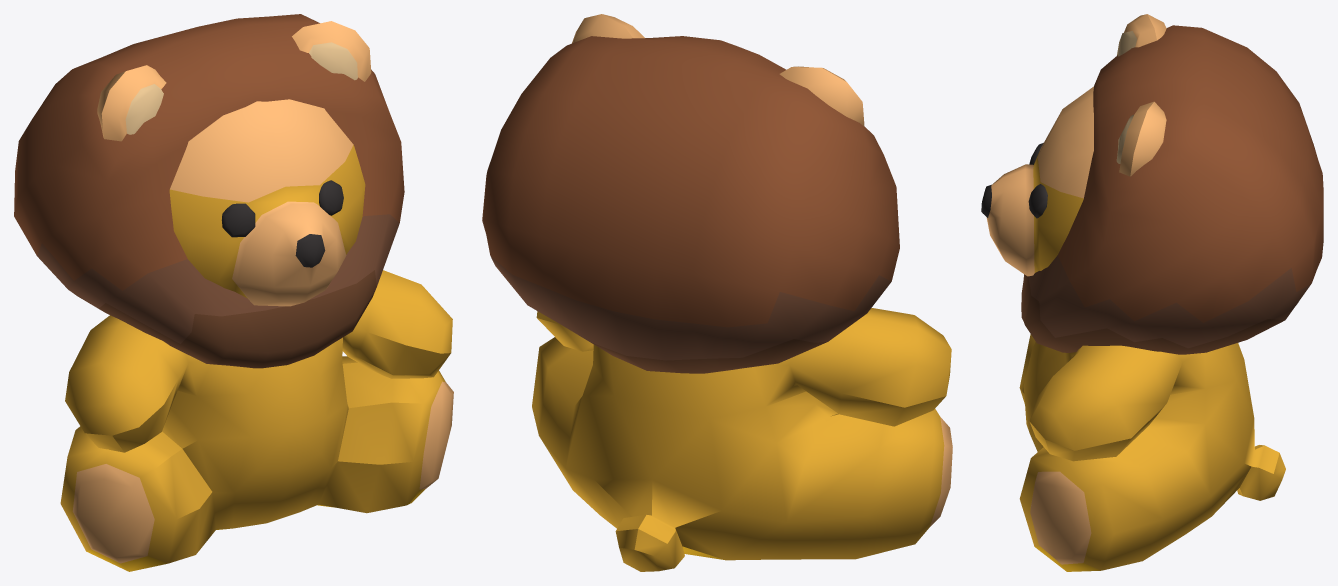
File: pelucia_leao_pacote.glb
3 views of the same model, side by side, from view 1: azimuth 30°, elevation 25°; view 2: azimuth 150°, elevation 25°; view 3: azimuth 270°, elevation 25° (orthographic). The views are drawn at different scales.
Parts seen in each view (by area): view 1: pelucia_leao_pacote; view 2: pelucia_leao_pacote; view 3: pelucia_leao_pacote.
Boxes of the visible parts, box(x1,y1,x2,y2) form: pelucia_leao_pacote: box(14, 14, 453, 571); pelucia_leao_pacote: box(482, 14, 952, 571); pelucia_leao_pacote: box(981, 14, 1323, 571).
Bounding box in the file's own units: 0.3281 × 0.3974 × 0.2706.
Materials: 1 (1 with a texture image).
